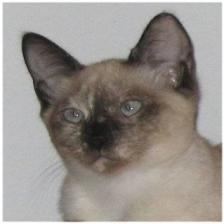cat: (15, 12, 207, 173)
